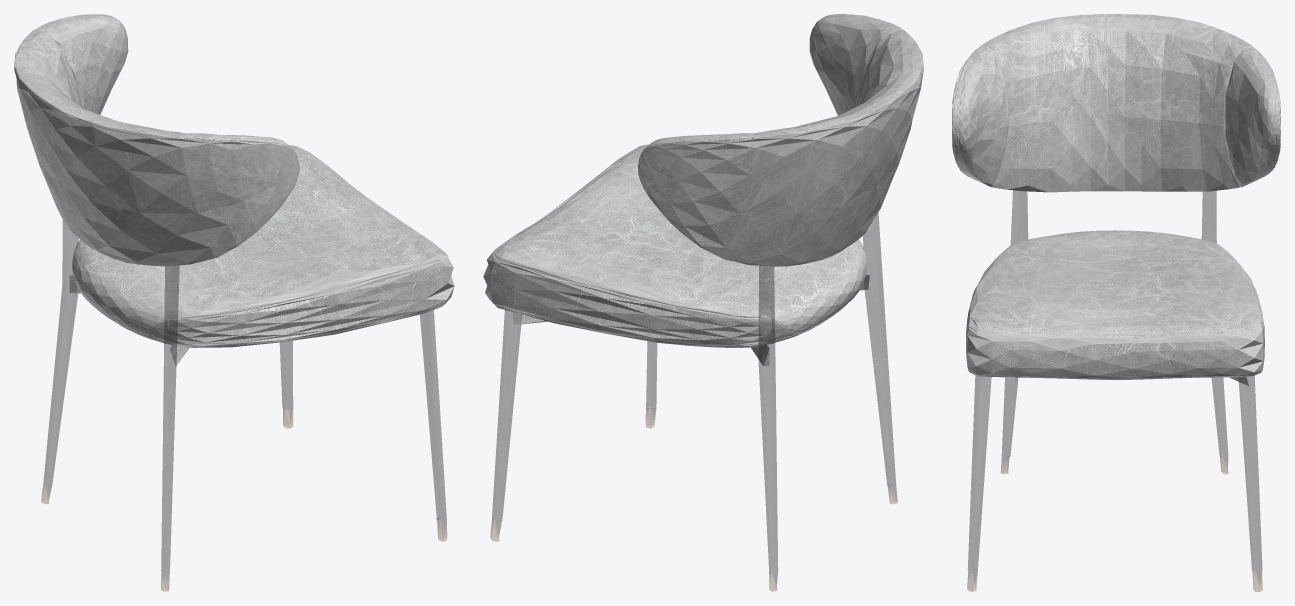
The model's file is asiento3.glb.
3 views of the same model, side by side, from view 1: azimuth 30°, elevation 25°; view 2: azimuth 150°, elevation 25°; view 3: azimuth 270°, elevation 25° (orthographic). The views are drawn at different scales.
Visible parts, largest first — view 1: a_silla.082; view 2: a_silla.082; view 3: a_silla.082.
Boxes of the visible parts, box(x1,y1,x2,y2) form: a_silla.082: box(14, 14, 454, 591); a_silla.082: box(483, 14, 923, 591); a_silla.082: box(952, 14, 1280, 591).
Size of the model in its own units: 3.23 by 4.2 by 2.91.
3 materials, 3 textured.
